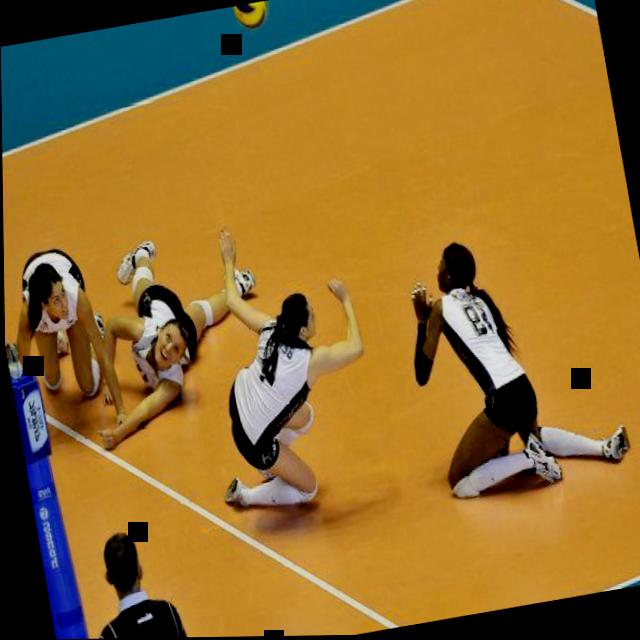Fall-Detected: (376, 211, 636, 519)
